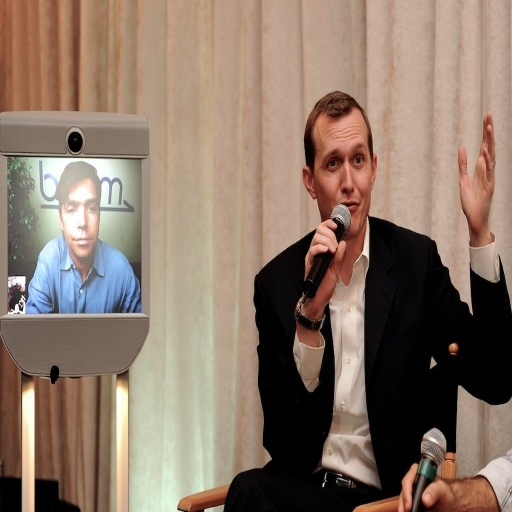hand: (456, 106, 496, 230), (306, 239, 350, 312), (396, 459, 456, 511)
